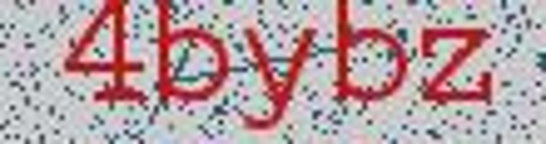4: (53, 1, 146, 121)
b: (152, 1, 234, 109), (326, 2, 409, 106)
y: (236, 20, 320, 137)
z: (414, 17, 499, 112)
